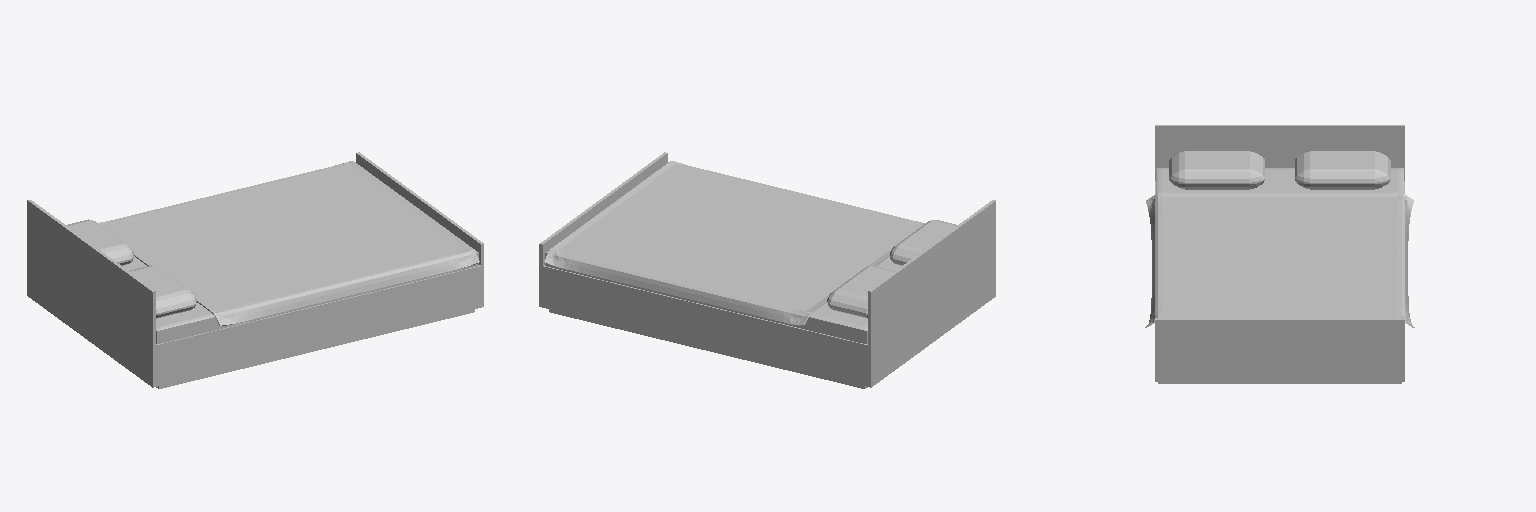
The model's file is Bed.obj.
3 views of the same model, side by side, from view 1: azimuth 30°, elevation 25°; view 2: azimuth 150°, elevation 25°; view 3: azimuth 270°, elevation 25° (orthographic).
Parts seen in each view (by area): view 1: Plane.002; view 2: Plane.002; view 3: Plane.002.
Part boxes in pixels (left/top/right/bottom): Plane.002: left=27, top=152, right=483, bottom=388; Plane.002: left=539, top=152, right=995, bottom=388; Plane.002: left=1145, top=125, right=1414, bottom=383.
Bounding box in the file's own units: 1224 × 355 × 861.